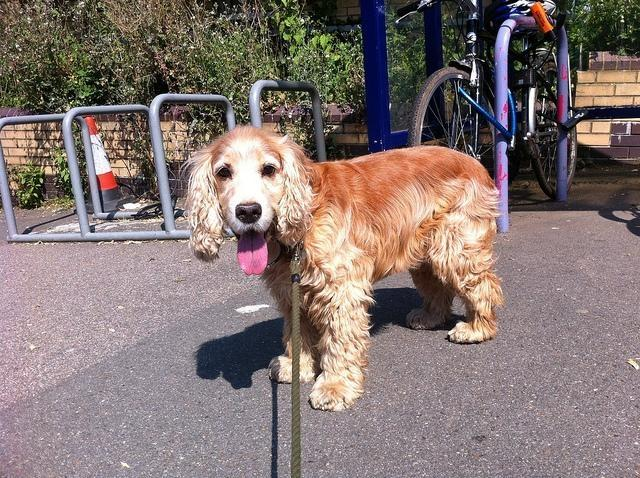bicycle: (388, 1, 560, 198)
